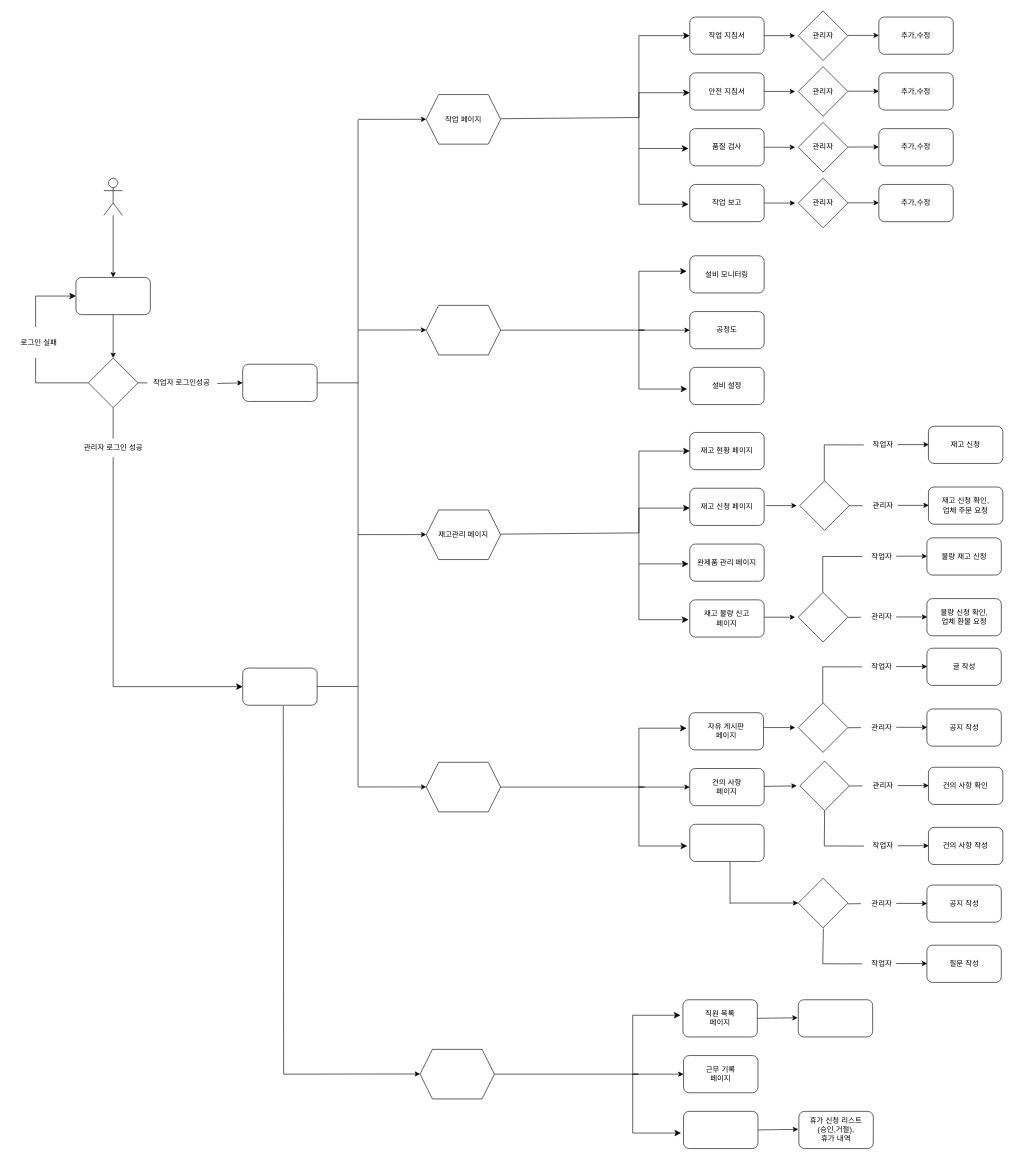
Image size: 1014x1159. Some labels were removed from this diagram. Here are the shapes that lost their labels. From the top down, the centre of each, then its label:
pixel 112 296: 로그인페이지
pixel 463 330: 설비 페이지
pixel 279 382: 작업자 페이지
pixel 279 686: 관리자 페이지 (대쉬보드)
pixel 463 787: 게시판 페이지
pixel 726 842: Q & A 페이지
pixel 835 1018: 직원 추가
pixel 456 1074: 직원관리 페이지
pixel 720 1130: 휴가 신청 페이지
